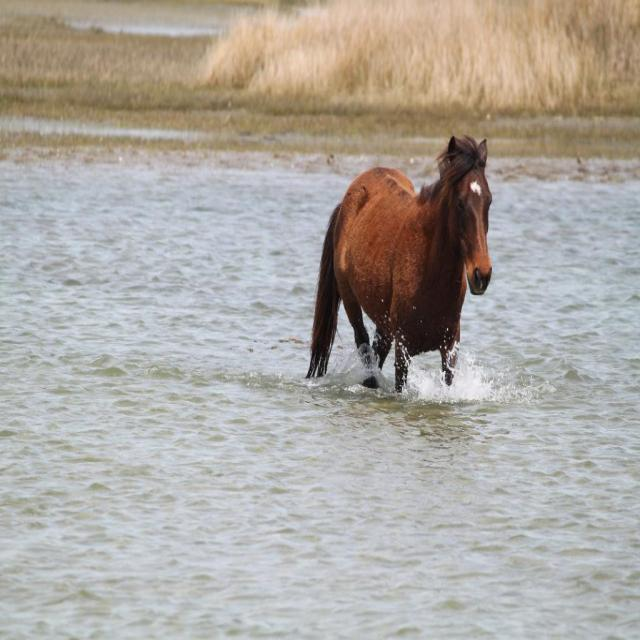Horse: (306, 132, 493, 392)
